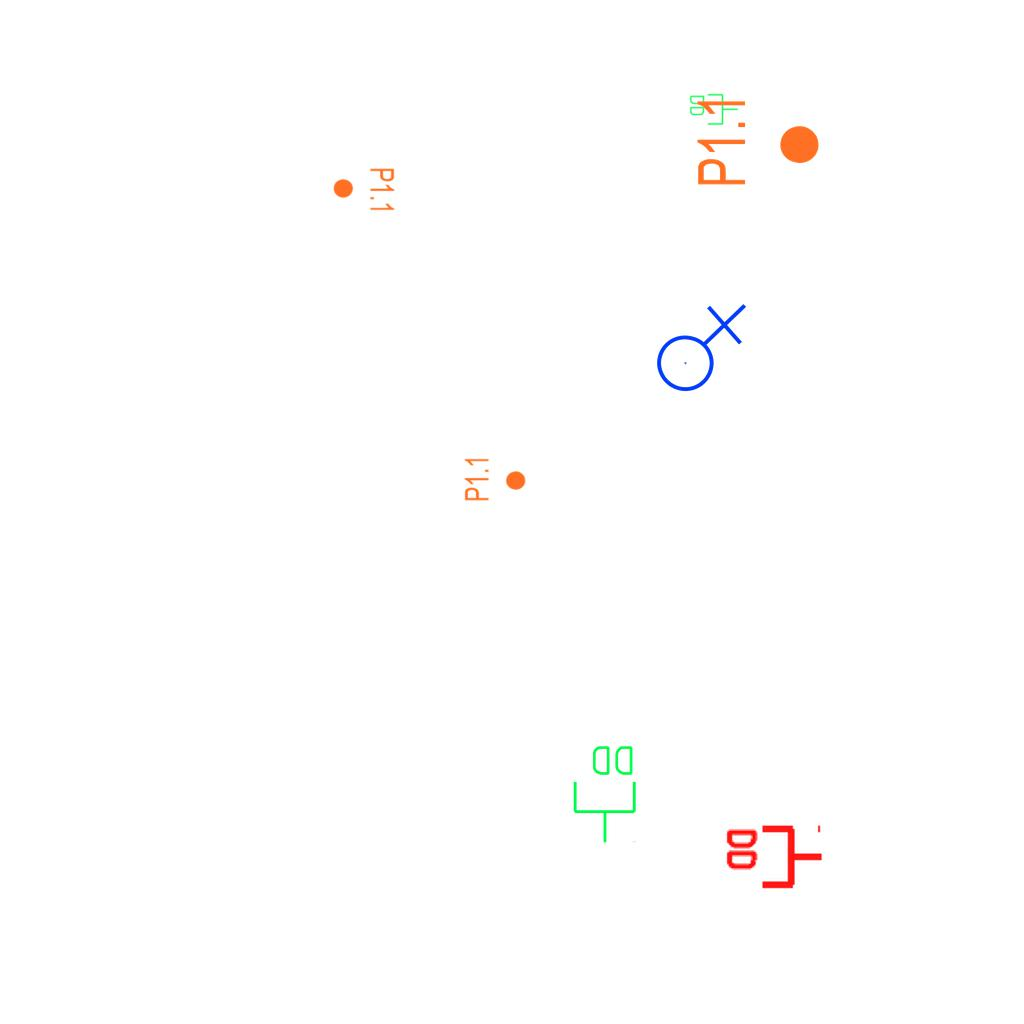Datenanschluss_zweifach: (571, 742, 640, 845), (722, 824, 825, 893), (688, 92, 739, 126)
Downlight_LED_Einbauleuchten_Flur: (694, 95, 822, 188), (463, 456, 527, 502), (332, 167, 396, 213)
Elektroanschluss_allgemein_230V_Geraeteanschlussdose_230V: (648, 299, 747, 393)
